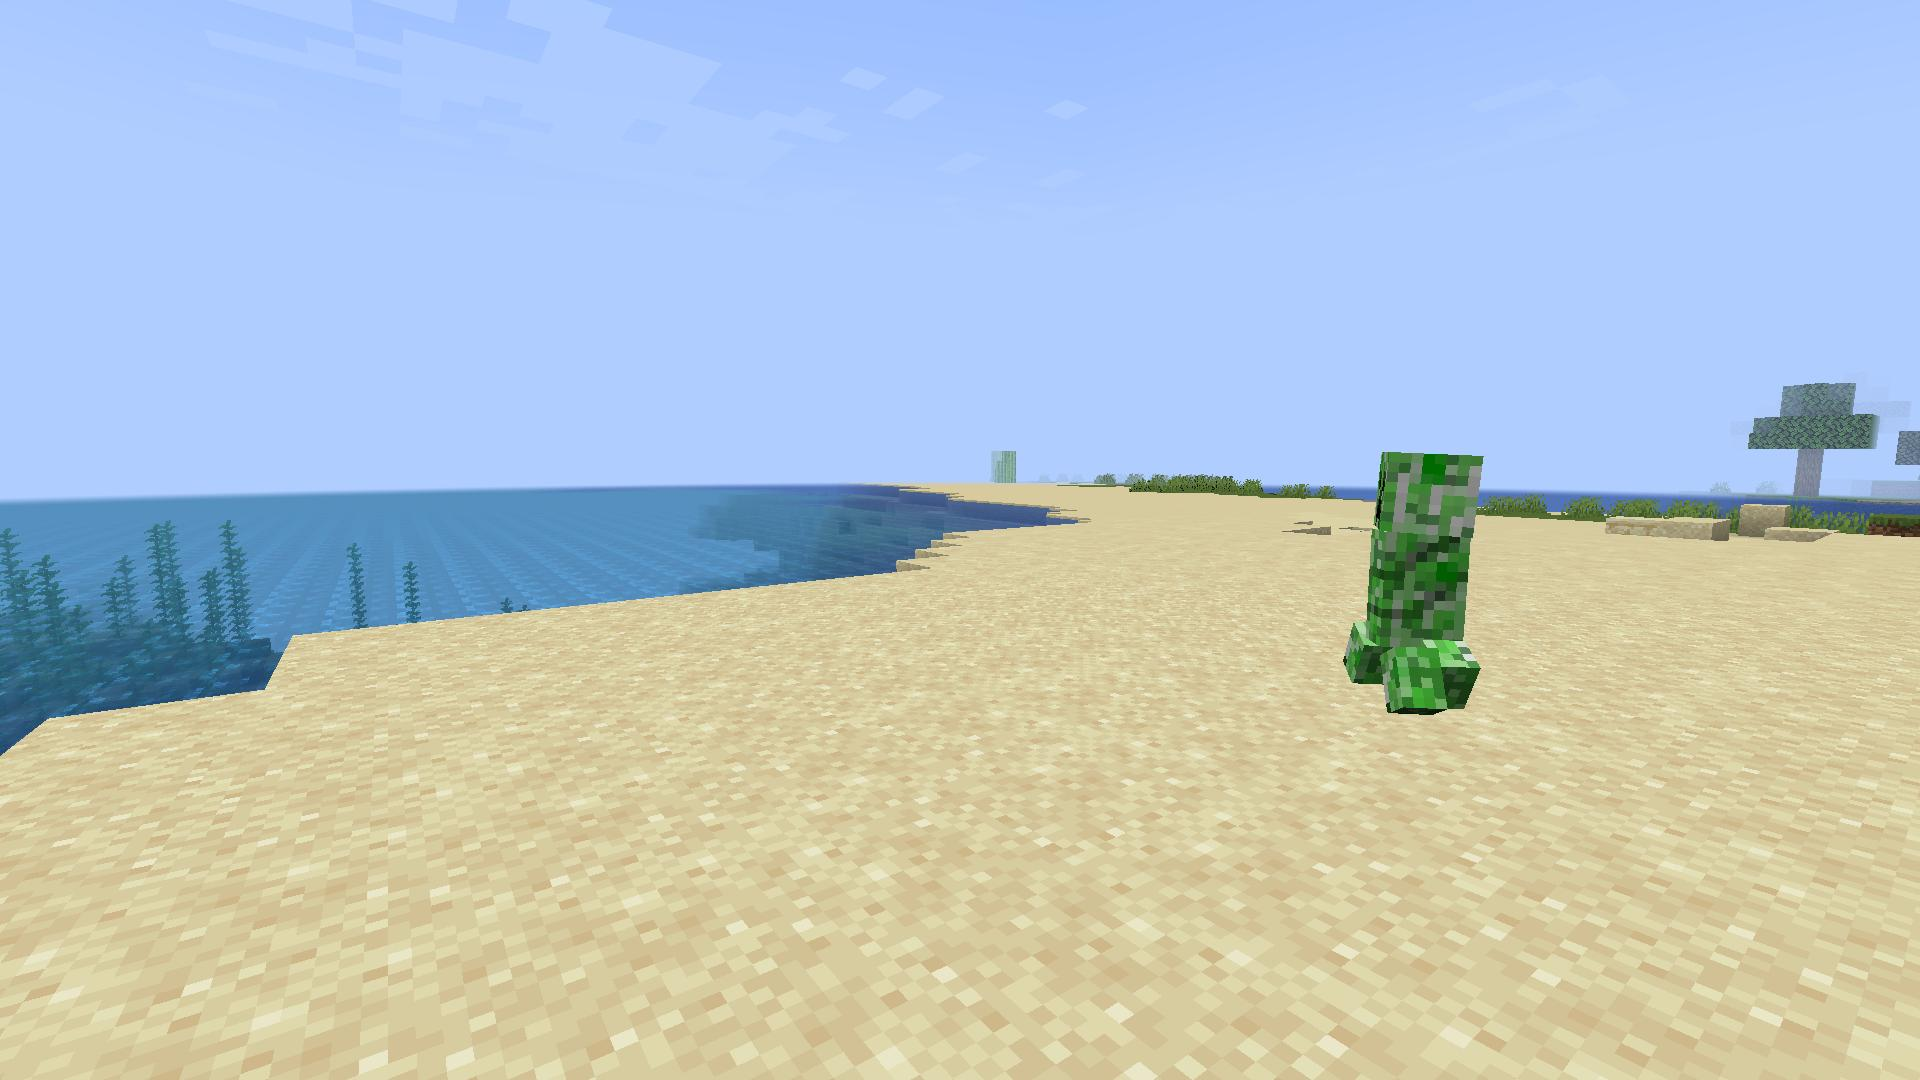creeper: (1336, 434, 1490, 752)
